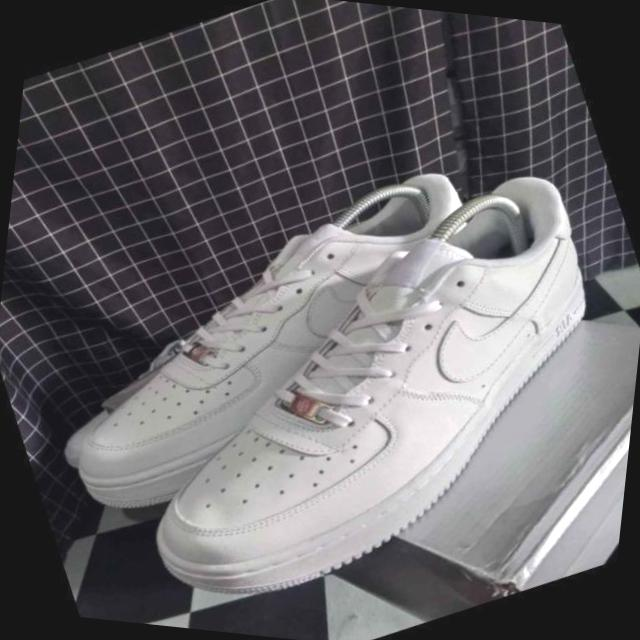nike_fake_airforce: (49, 119, 640, 640), (0, 125, 556, 578)
